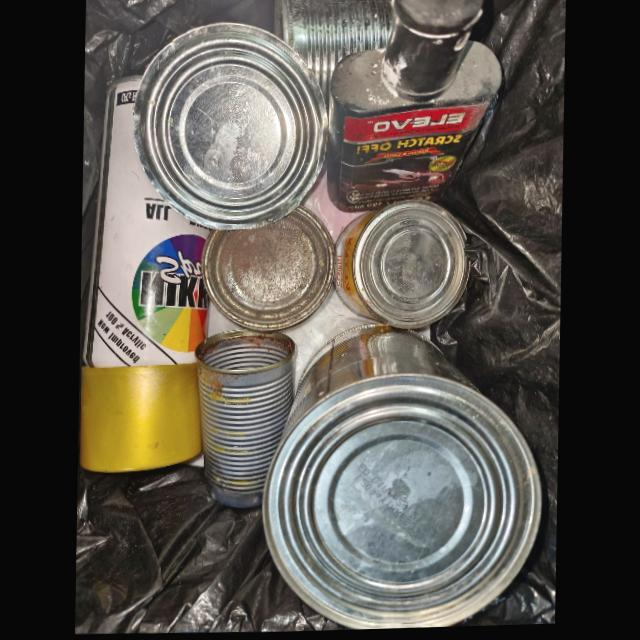metal: (261, 325, 543, 632), (79, 73, 210, 472), (132, 21, 327, 231), (194, 330, 297, 509), (335, 201, 470, 332), (201, 206, 337, 332), (273, 0, 394, 95)
plastic: (326, 0, 502, 214)
